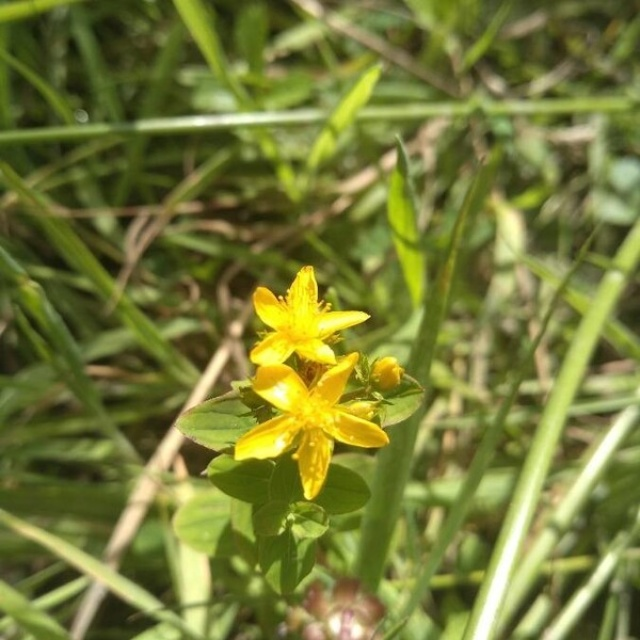obstacle: (198, 207, 519, 548)
